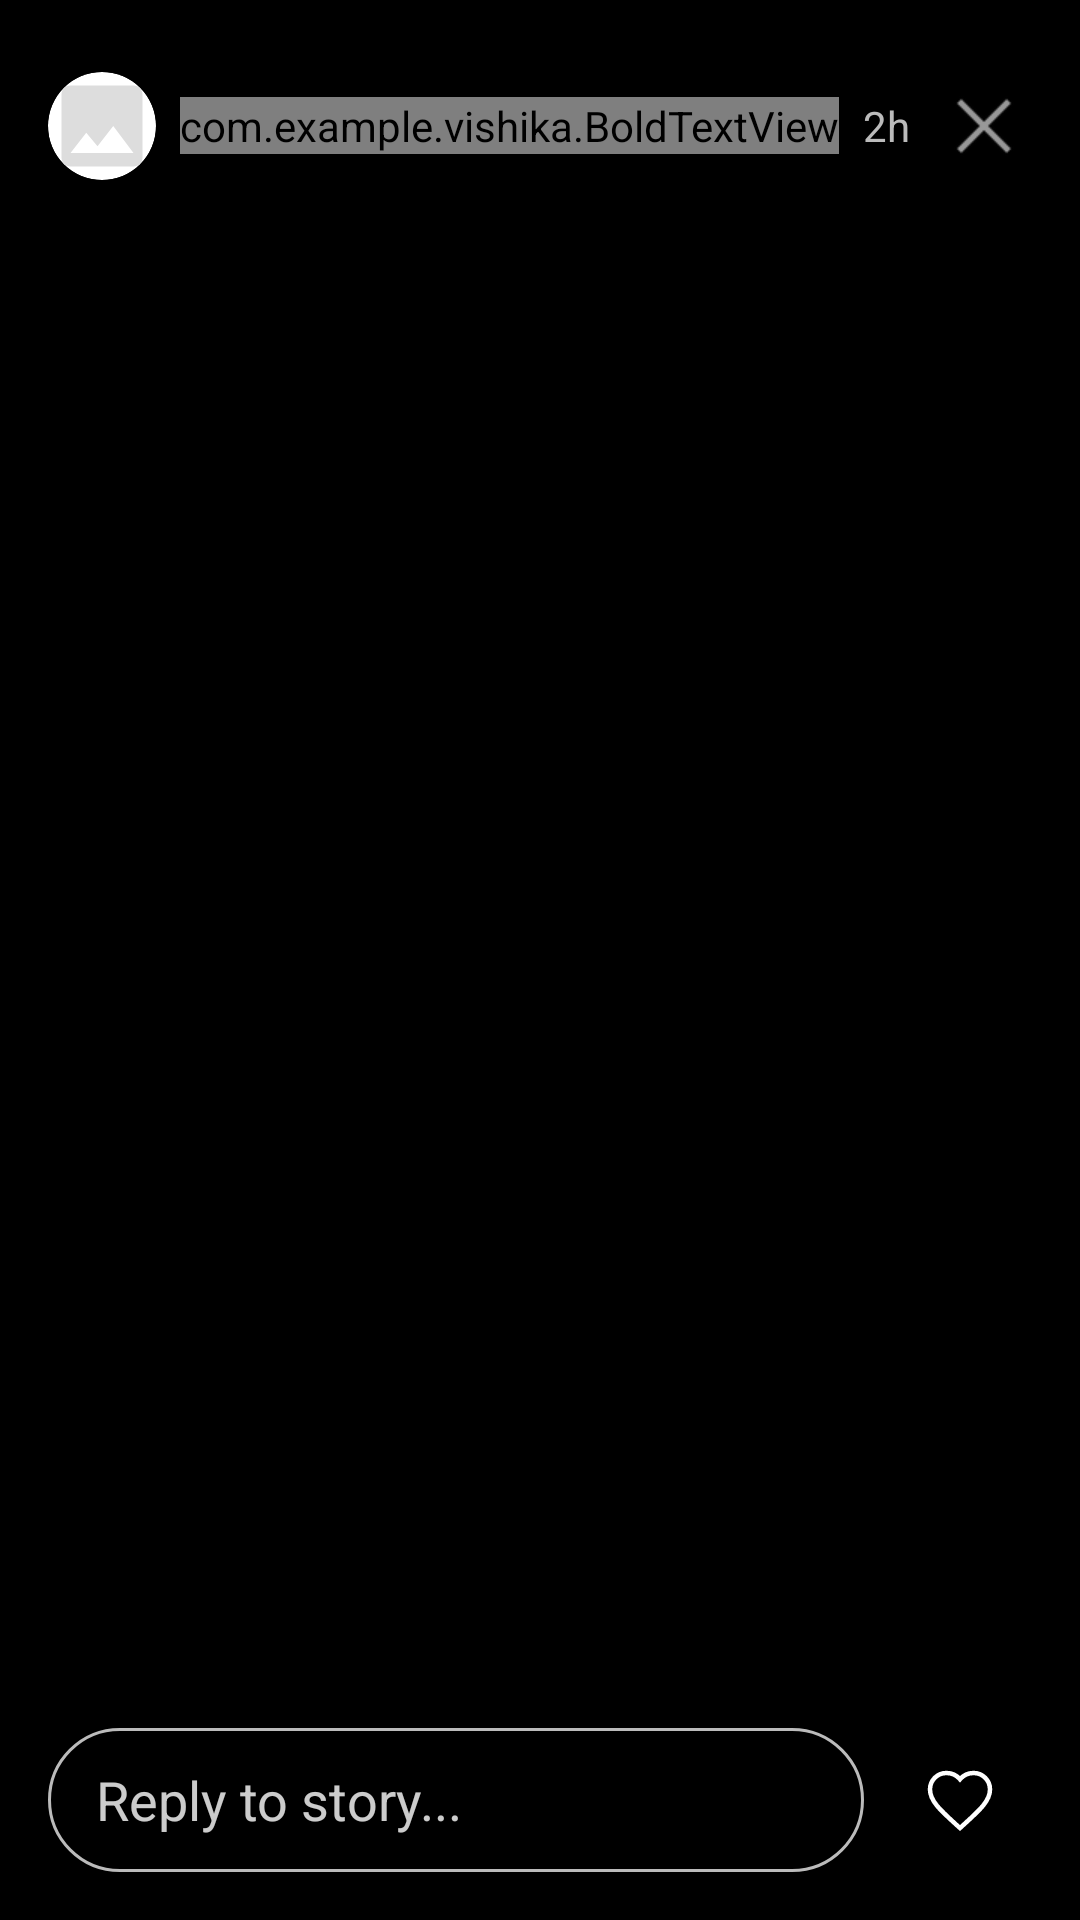

Icons on this 1080x1920 Android screen, each with the point to tap as (x,y):
close clear cancel: (984,126)
heart: (960,1800)
